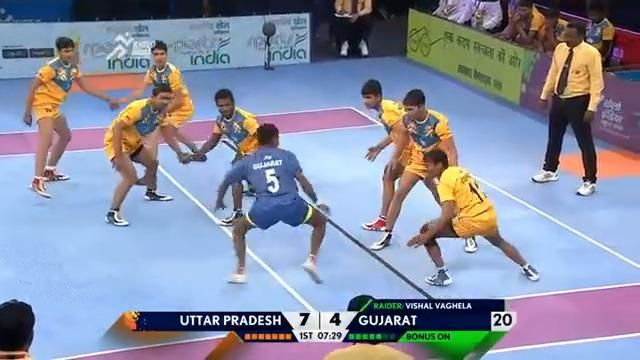Player: (406, 148, 540, 286), (369, 88, 475, 252), (22, 35, 117, 198), (108, 39, 204, 200), (531, 20, 605, 196), (185, 87, 261, 225), (103, 83, 175, 226), (359, 78, 411, 232), (0, 298, 36, 359)
Raider: (214, 122, 331, 284)
referee: (328, 0, 373, 57)
